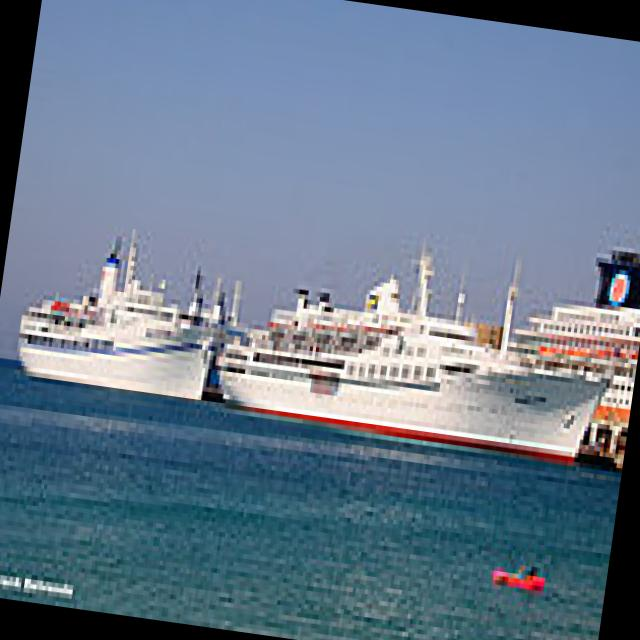boat: (217, 290, 610, 472), (15, 269, 226, 409)
